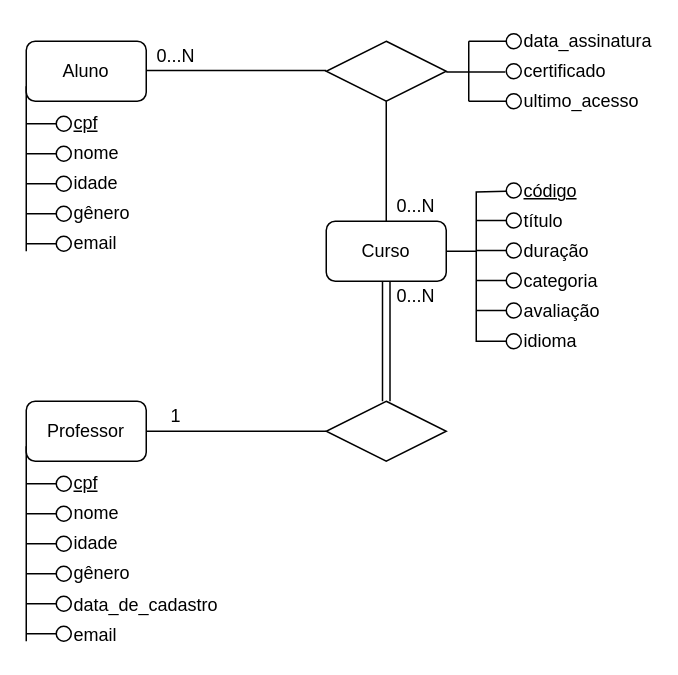
The diagram is 678 pixels wide and 675 high, and some of its shapes have lost their labels. Here are the shapes that lost their labels. From the top down, the centre of each, then its label:
the point at 385,70: Assina
the point at 385,430: Leciona
